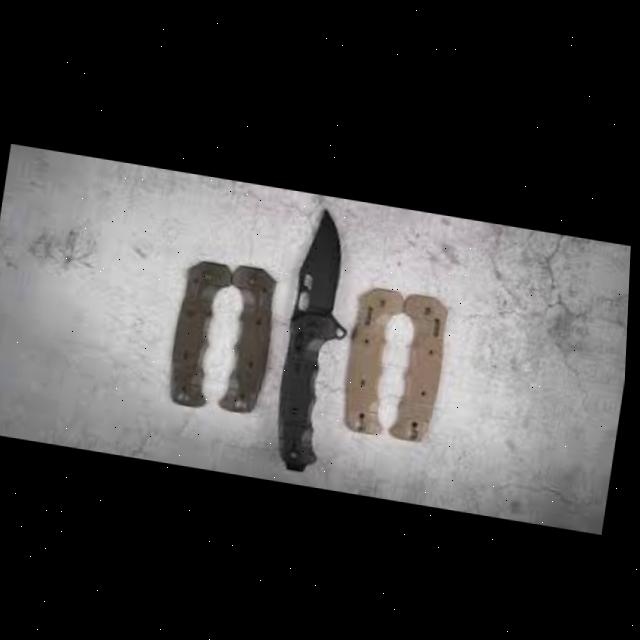knife: (273, 198, 367, 472)
